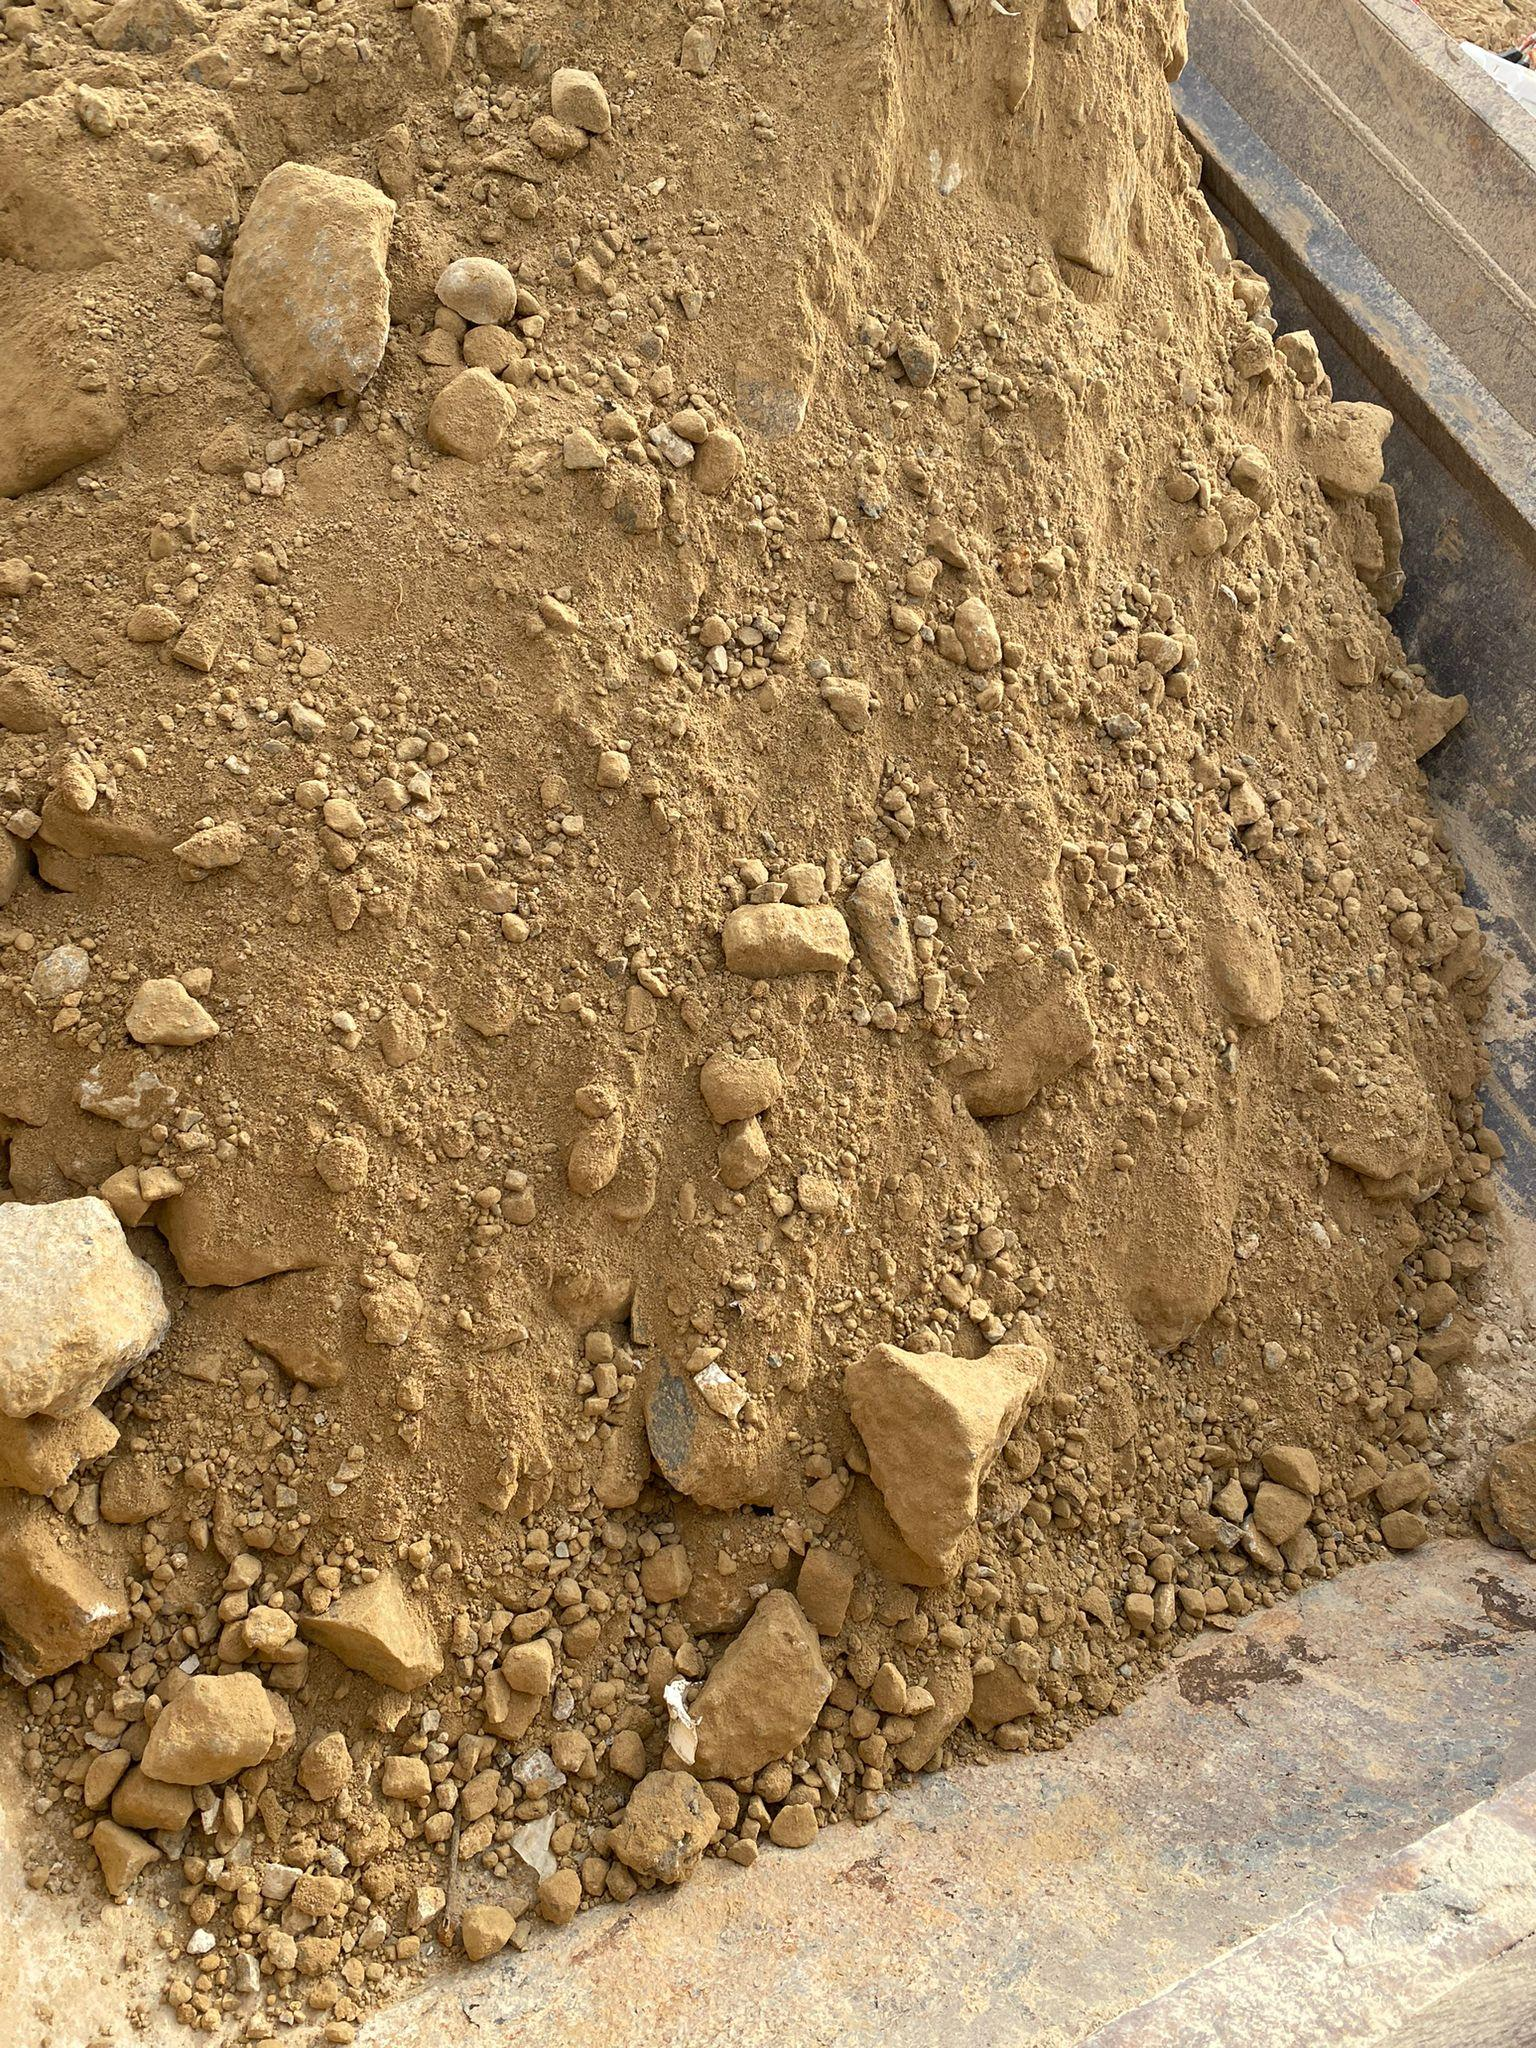dry: (0, 0, 1473, 1977)
